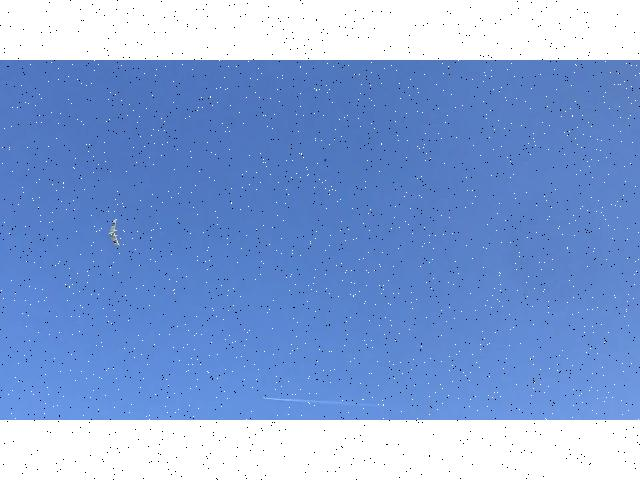Anti-Drone: (98, 208, 140, 256)
